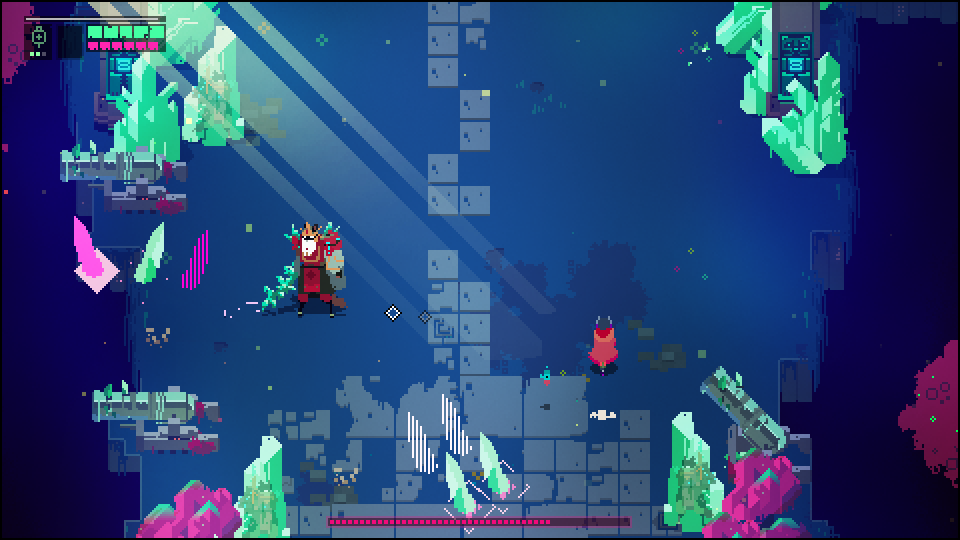hanged_crys: (403, 410, 443, 475), (437, 387, 473, 456), (478, 438, 515, 498), (71, 212, 103, 278), (131, 221, 164, 283), (446, 457, 477, 512), (183, 230, 208, 296)
hanged_man: (260, 224, 347, 318)
player: (590, 311, 617, 376)
